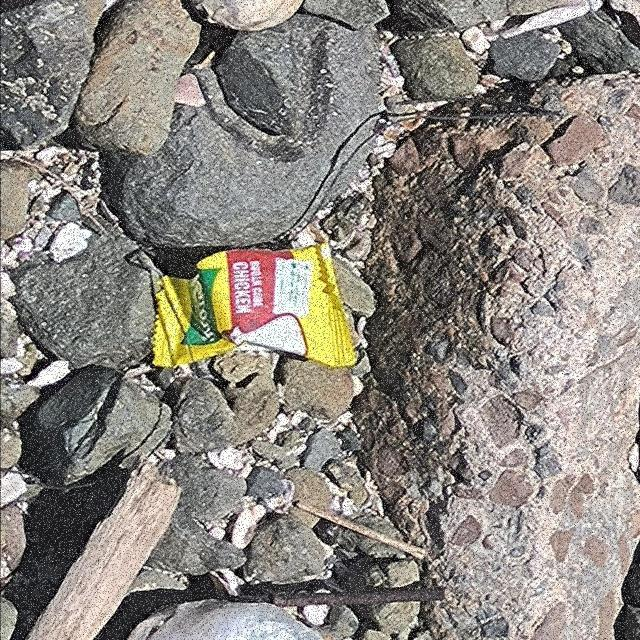plastic_waste: (152, 242, 359, 370)
